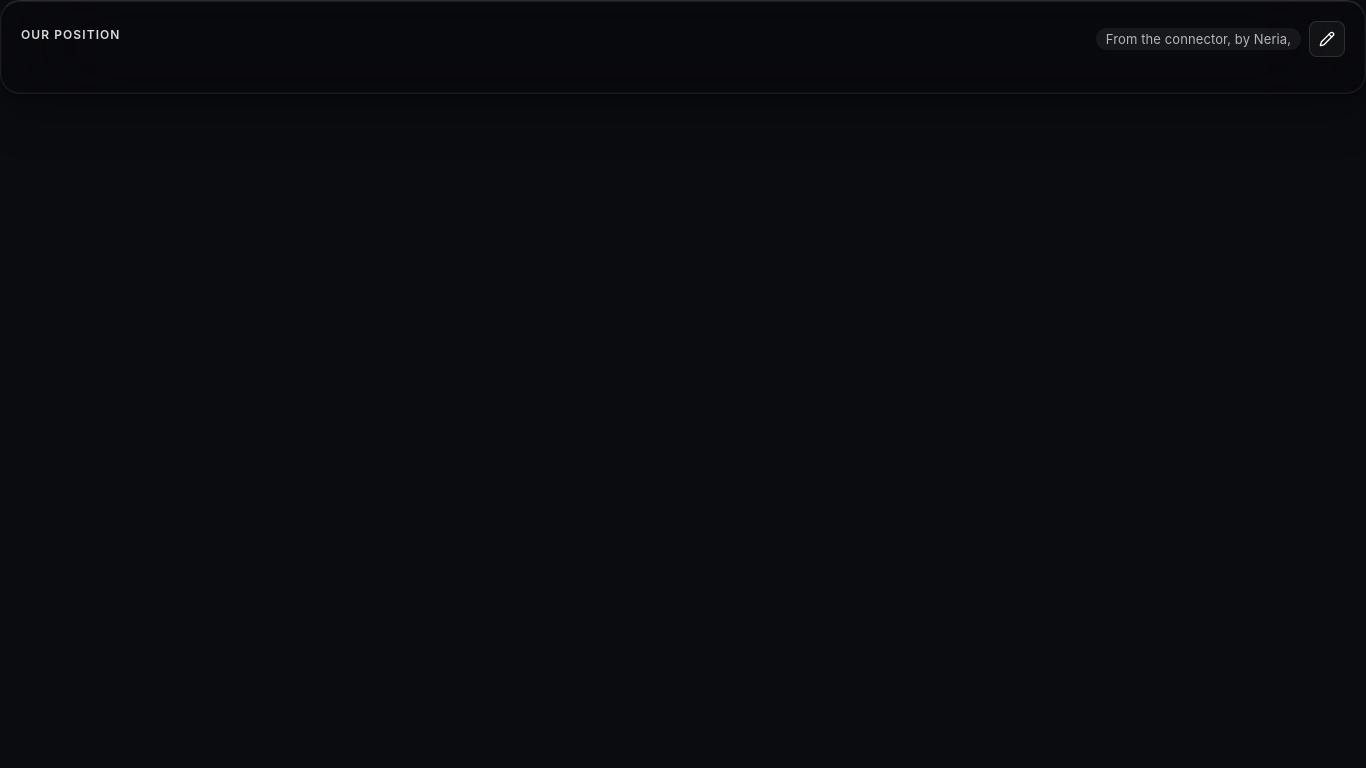
Test case: the edit sheet › says nothing about the product or Claude
Click the button named "Edit our position" at (1327, 39), box [1309,21,1345,57]
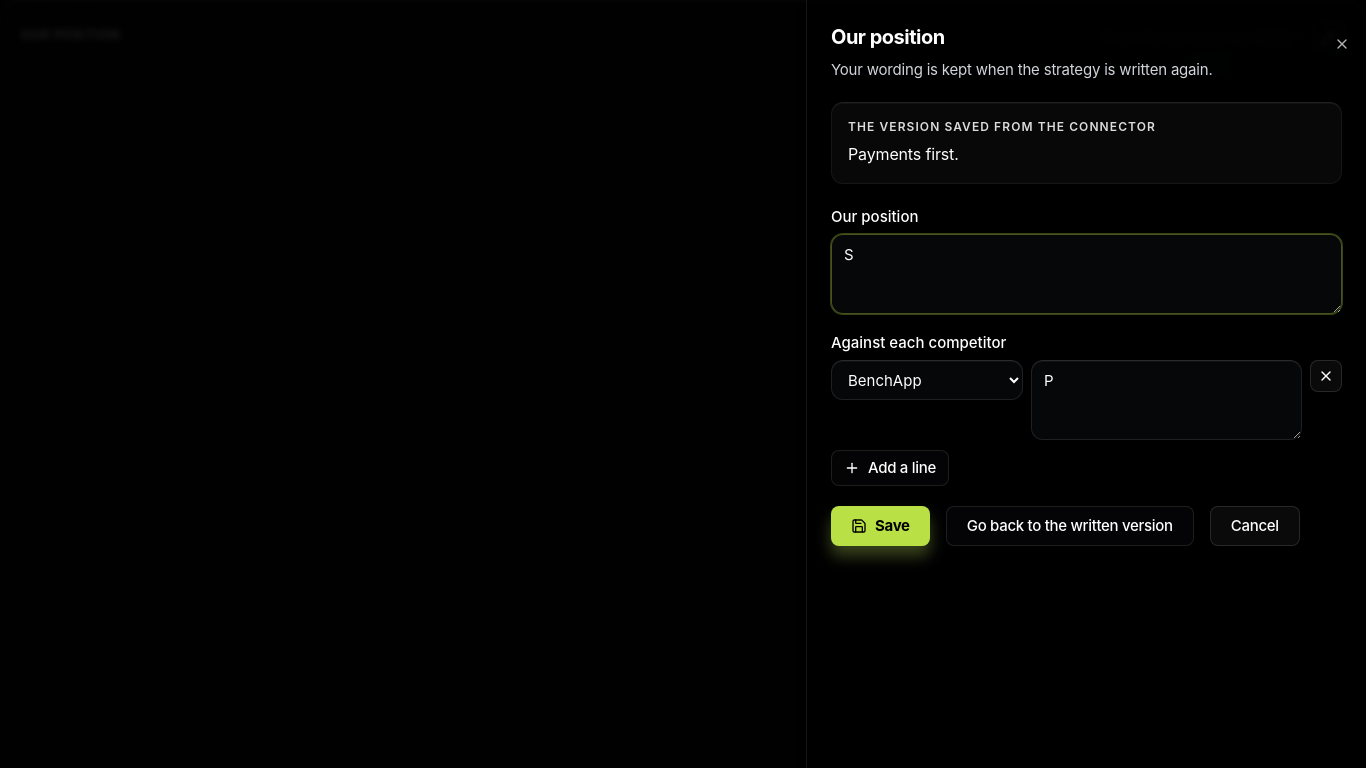
Check: the text "The version saved from the connector" is shown, box [848,119,1156,134]
Check: the button "Go back to the written version" is shown, box [946,506,1194,546]
